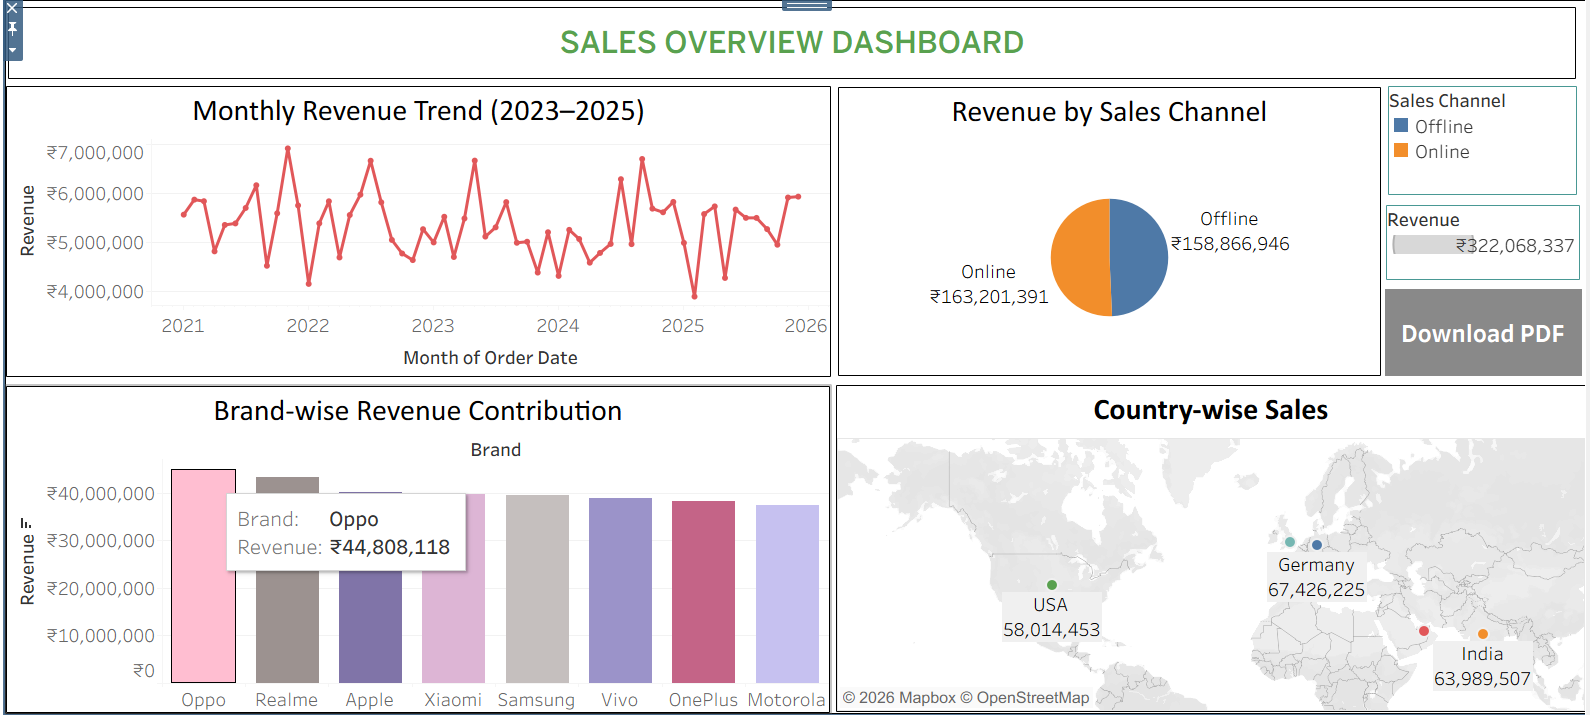

The page's visual inventory and layout, read from the dashboard file:
{"tool":"tableau","page":{"name":"Dashboard 1","canvas":[1000,1000],"units":"permille","ordinal":0},"visuals":[{"type":"text","box":[6.8,20.6,967.9,98.6]},{"type":"worksheet","title":"Revenue Trend by Month","mark":"Automatic","rows":["Revenue"],"cols":["Order_Date"],"box":[5.6,128.8,509.3,398.6]},{"type":"legend","title":"Sales Channel Performance","param":"[federated.1o2bfm91vwblvg1ehwoeh1iahq6k].[none:Sales_Channel:nk]","box":[858.6,128.8,116.7,149.3]},{"type":"worksheet","title":"Sales Channel Performance","mark":"Pie","box":[519.1,130.1,335.2,395.9]},{"type":"legend","title":"Sales Channel Performance","param":"[federated.1o2bfm91vwblvg1ehwoeh1iahq6k].[sum:Revenue:qk]","box":[857.4,291.8,119.8,102.7]},{"type":"dashboard-object","box":[856.8,406.9,121.6,119.2]},{"type":"worksheet","title":"Country-wise Sales","mark":"Automatic","box":[517.9,538.4,463,447.9]},{"type":"worksheet","title":"Revenue by Brand","mark":"Automatic","rows":["Revenue"],"cols":["Brand"],"box":[5.6,539.7,508.6,447.9]}]}

Visuals, with their boxes on the dashboard's canvas, which has no fixed pixel size, in thousandths of its width and height (x1, y1, x2, y2). These are canvas units, not pixel positions in the 1590x715 screenshot, which may show the page scaled, cropped or inside an application window:
text: (left=7, top=21, right=975, bottom=119)
"Revenue Trend by Month" worksheet: (left=6, top=129, right=515, bottom=527)
"Sales Channel Performance" legend: (left=859, top=129, right=975, bottom=278)
"Sales Channel Performance" worksheet (Pie marks): (left=519, top=130, right=854, bottom=526)
"Sales Channel Performance" legend: (left=857, top=292, right=977, bottom=394)
dashboard-object: (left=857, top=407, right=978, bottom=526)
"Country-wise Sales" worksheet: (left=518, top=538, right=981, bottom=986)
"Revenue by Brand" worksheet: (left=6, top=540, right=514, bottom=988)
